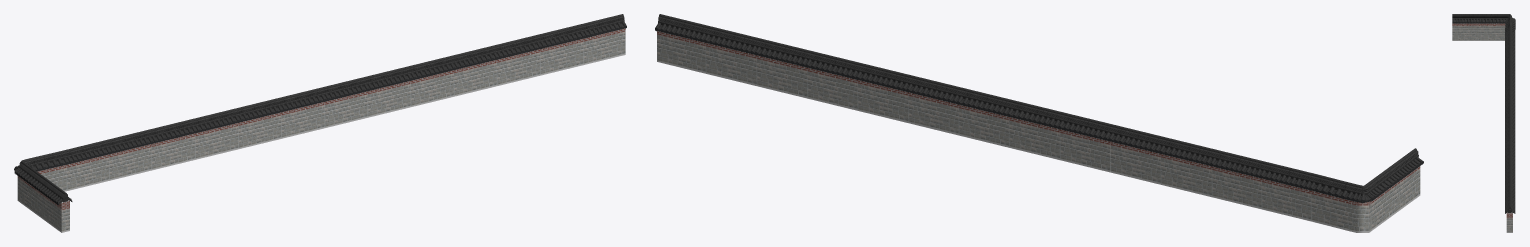
File: SM_DG_HG_StoneWallH_Splines_7.fbx
The picture shows the model from 3 angles, left to right: view 1: azimuth 30°, elevation 25°; view 2: azimuth 150°, elevation 25°; view 3: azimuth 270°, elevation 25°; orthographic projection. The views are drawn at different scales.
Visible parts, largest first — view 1: SM_DG_HG_StoneWallH_Splines_7; view 2: SM_DG_HG_StoneWallH_Splines_7; view 3: SM_DG_HG_StoneWallH_Splines_7.
Boxes of the visible parts, <box> form: SM_DG_HG_StoneWallH_Splines_7: <box>14,14,626,232</box>; SM_DG_HG_StoneWallH_Splines_7: <box>655,14,1423,232</box>; SM_DG_HG_StoneWallH_Splines_7: <box>1452,14,1515,232</box>.
Size of the model in its own units: 2902 by 399 by 178.
